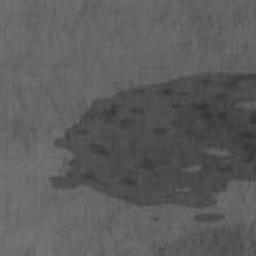Oil spot: (46, 70, 256, 256), (150, 215, 159, 224)
